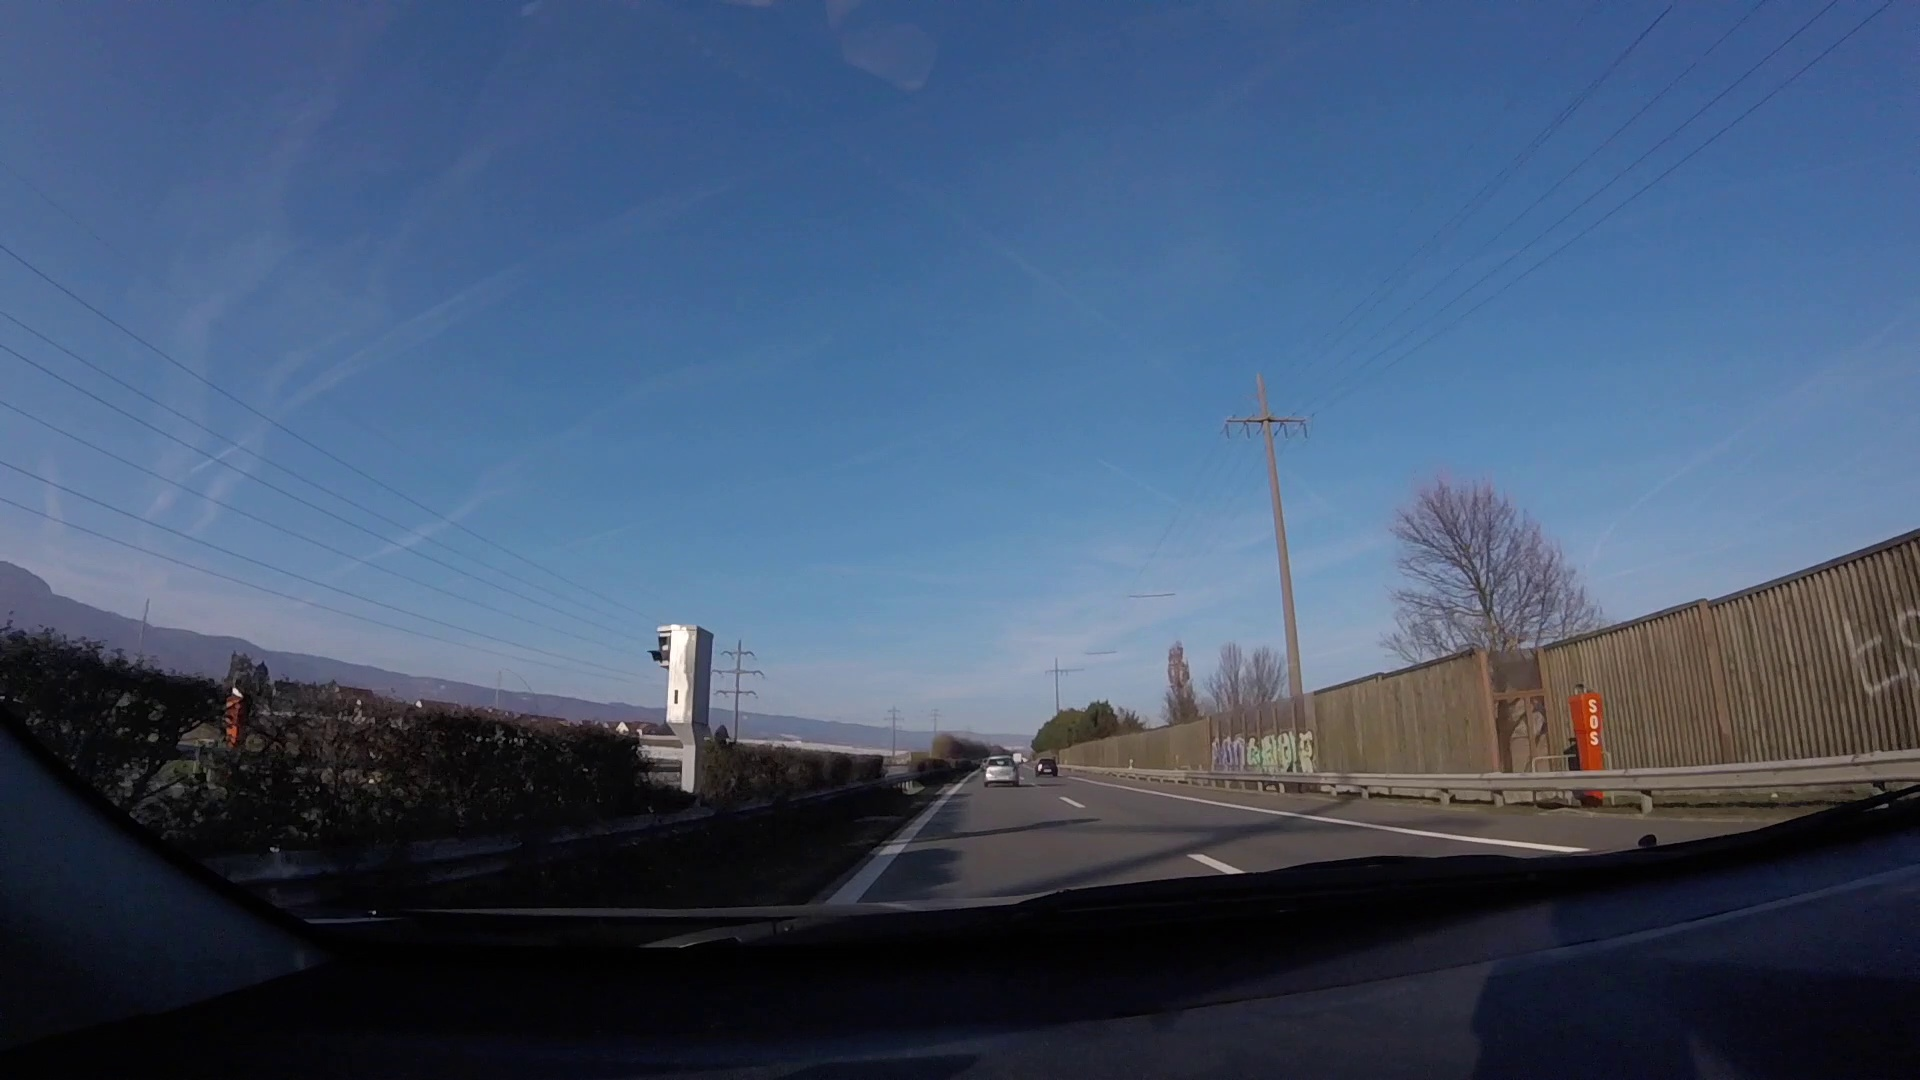radar: (647, 622, 716, 800)
